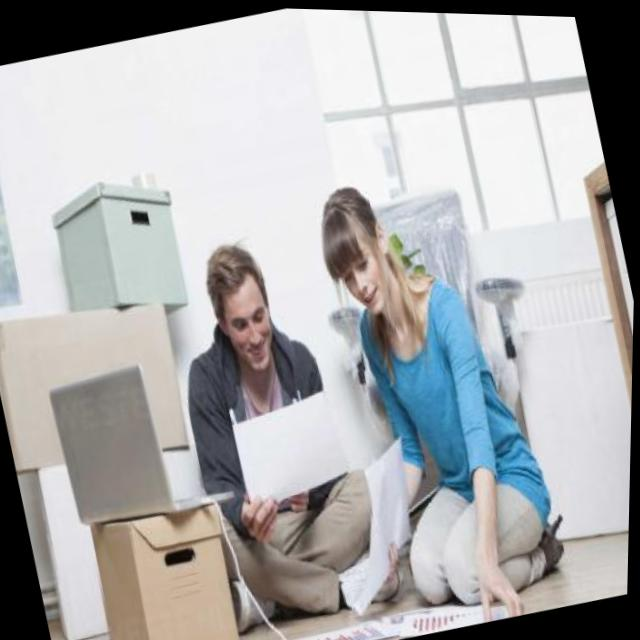box: (0, 265, 211, 507), (25, 429, 242, 640), (37, 157, 204, 344), (77, 484, 261, 640)
